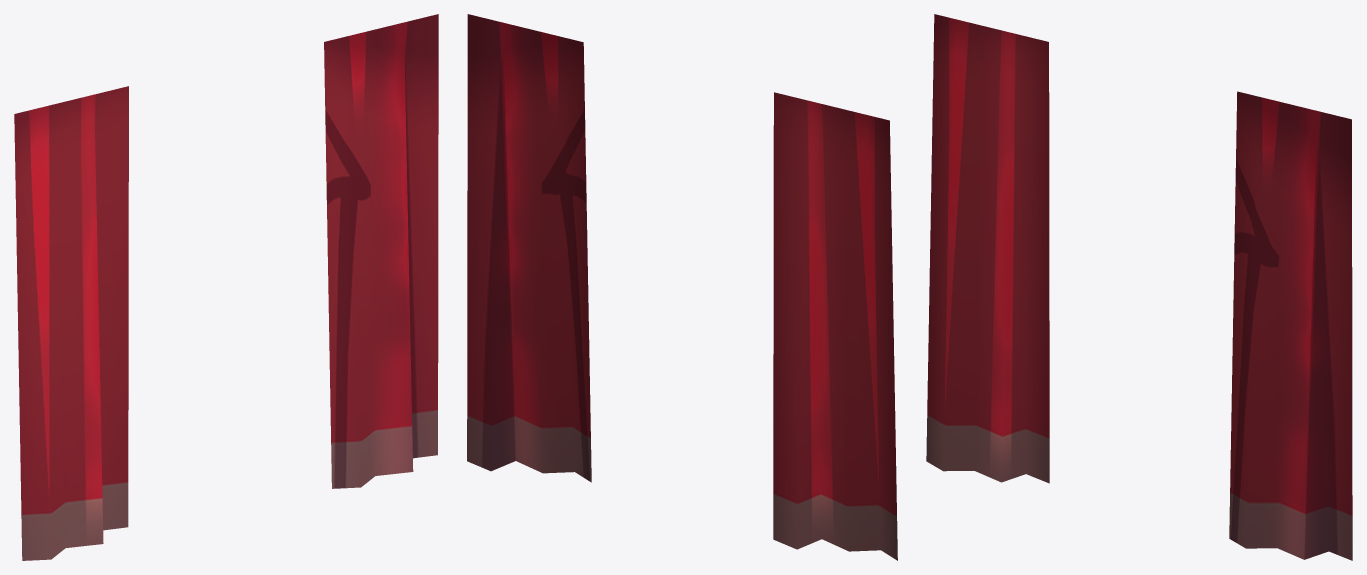
Rendered from Tx_props_curtain_46.fbx.
3 renders of one model, left to right at view 1: azimuth 30°, elevation 25°; view 2: azimuth 150°, elevation 25°; view 3: azimuth 330°, elevation 25°, orthographic.
Parts seen in each view (by area): view 1: Tx_props_curtain; view 2: Tx_props_curtain; view 3: Tx_props_curtain.
Boxes of the visible parts, x1,y1,x2,y2 form: Tx_props_curtain: (14,14,438,560); Tx_props_curtain: (467,14,897,560); Tx_props_curtain: (926,14,1352,560).
Size of the model in its own units: 25.41 by 25.5 by 2.35.
